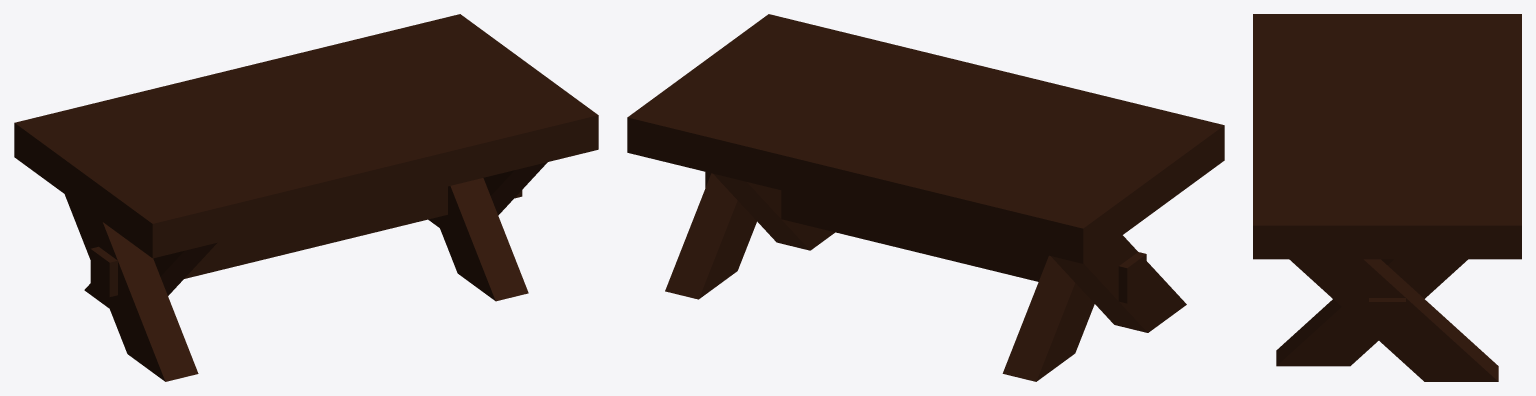
File: Set-Dressing-Table.FBX
The picture shows the model from 3 angles, left to right: view 1: azimuth 30°, elevation 25°; view 2: azimuth 150°, elevation 25°; view 3: azimuth 270°, elevation 25°; orthographic projection. The views are drawn at different scales.
Parts seen in each view (by area): view 1: Set-Dressing-Table; view 2: Set-Dressing-Table; view 3: Set-Dressing-Table.
Boxes of the visible parts, x1,y1,x2,y2 form: Set-Dressing-Table: [14, 14, 598, 381]; Set-Dressing-Table: [627, 14, 1224, 381]; Set-Dressing-Table: [1253, 14, 1521, 381].
Bounding box in the file's own units: 27 × 10 × 14.5.
